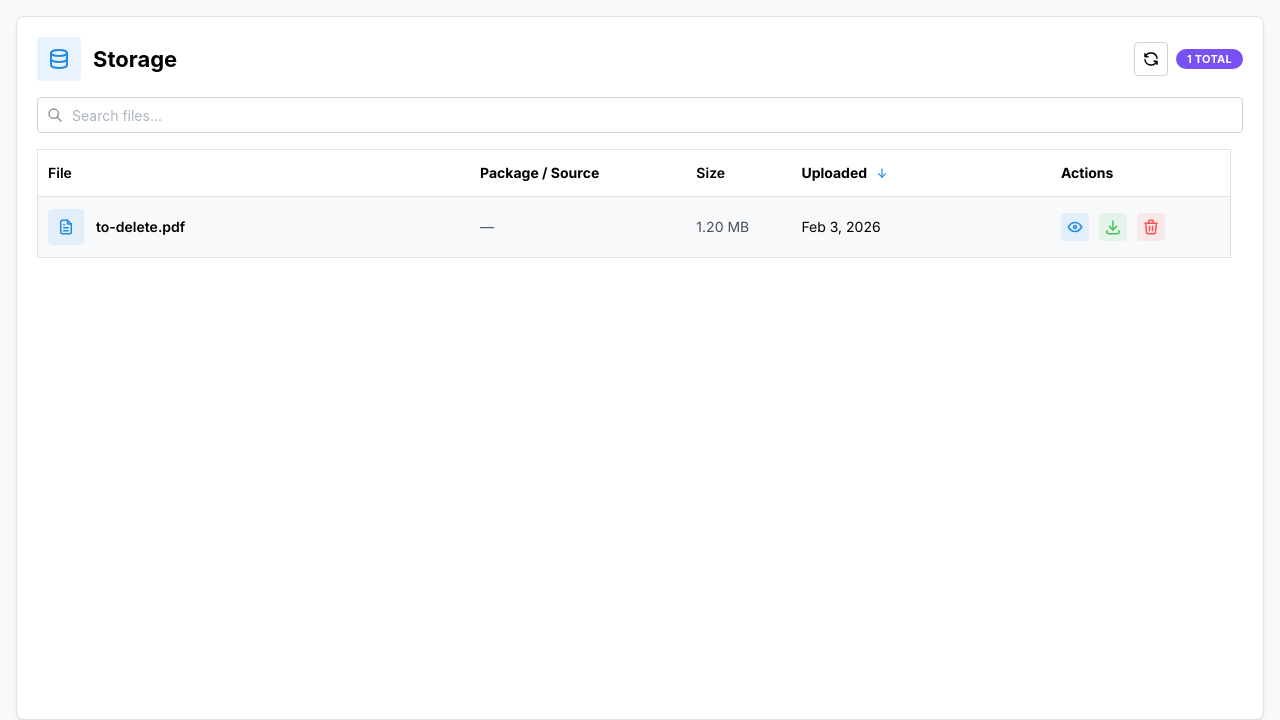
Test: AllStorageFiles component › deletes a file when confirmed and removes it from list
The width and height of the screenshot is (1280, 720).
Expected: the text "to-delete.pdf" is shown, x1=96 y1=217 x2=185 y2=237
Expected: the row "to-delete.pdf — 1.20 MB Feb 3, 2026" is shown, x1=38 y1=196 x2=1230 y2=258
What coordinates should you click on to do the following:
click the button named "Delete file to-delete.pdf"
I would click on:
 (1151, 227)
Its box is x1=1137 y1=213 x2=1165 y2=241.
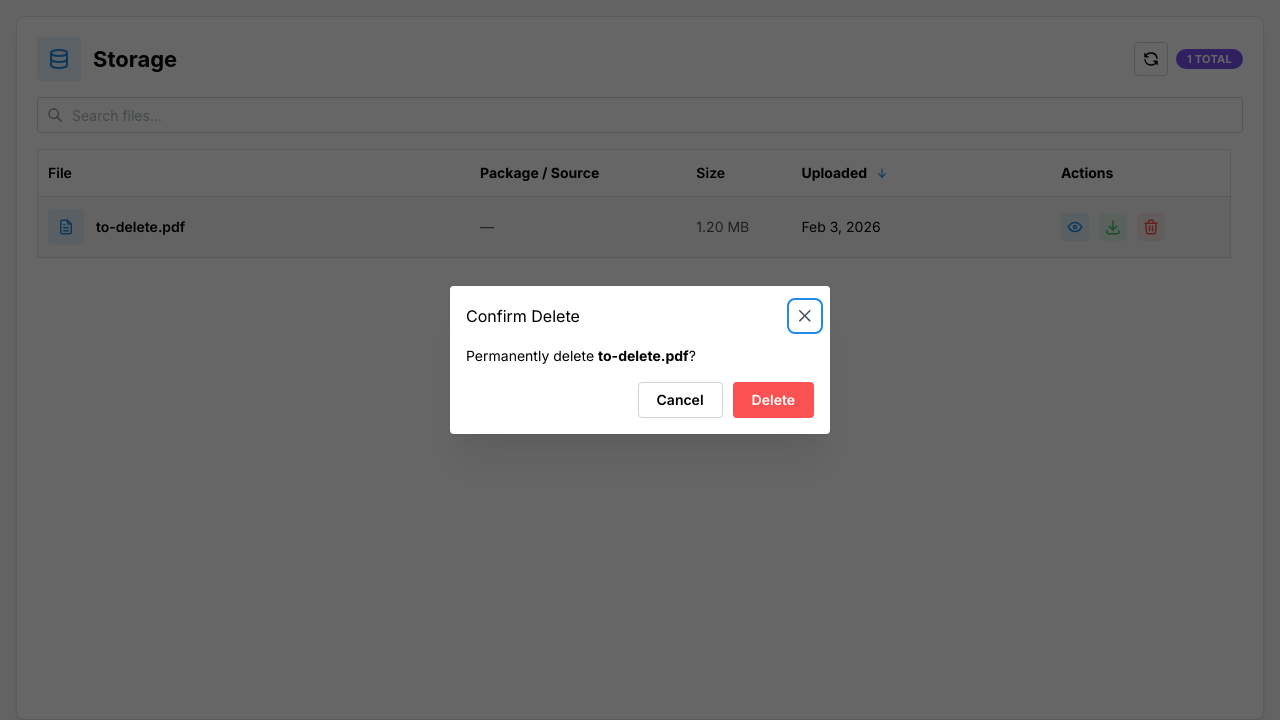
What coordinates should you click on to do the following:
click the button "Delete"
I would click on:
 (773, 400)
Its box is x1=733 y1=382 x2=814 y2=418.
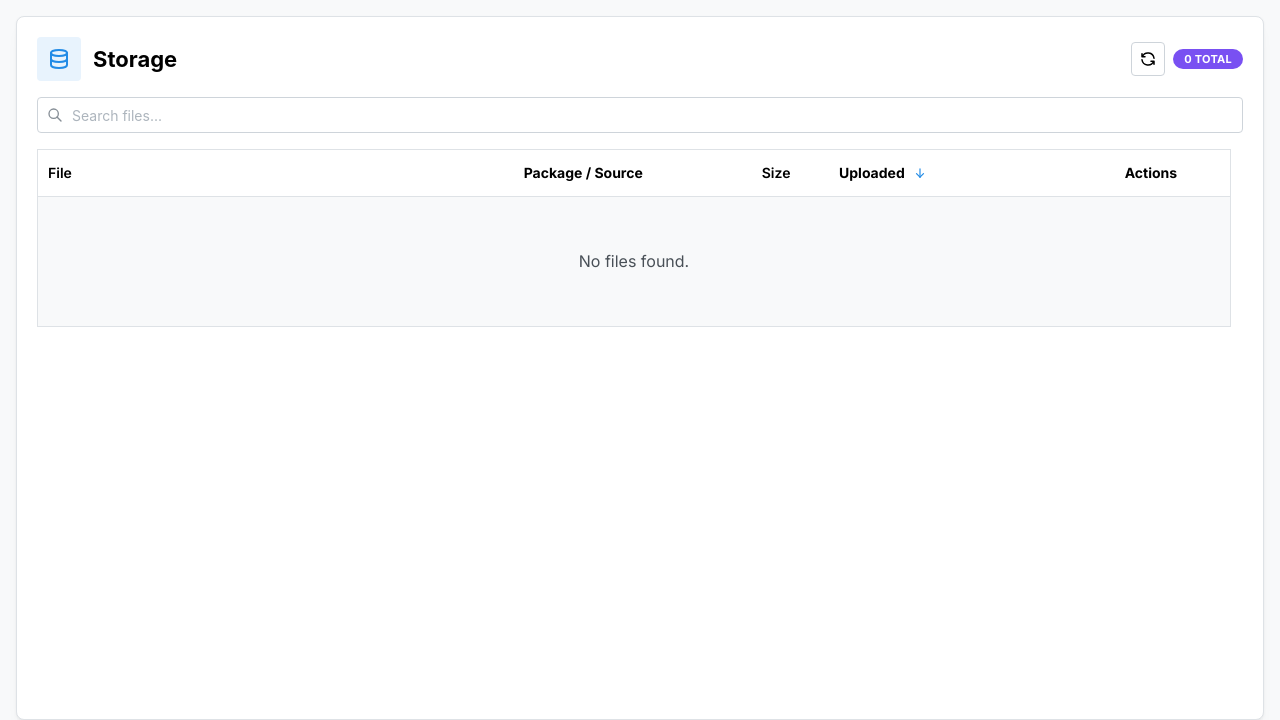
Now the text "to-delete.pdf" is gone
